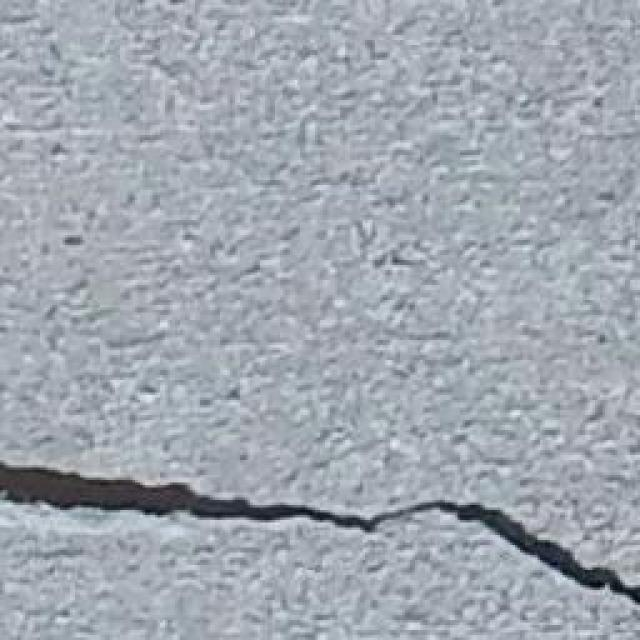concrete-crack: (0, 462, 640, 603)
